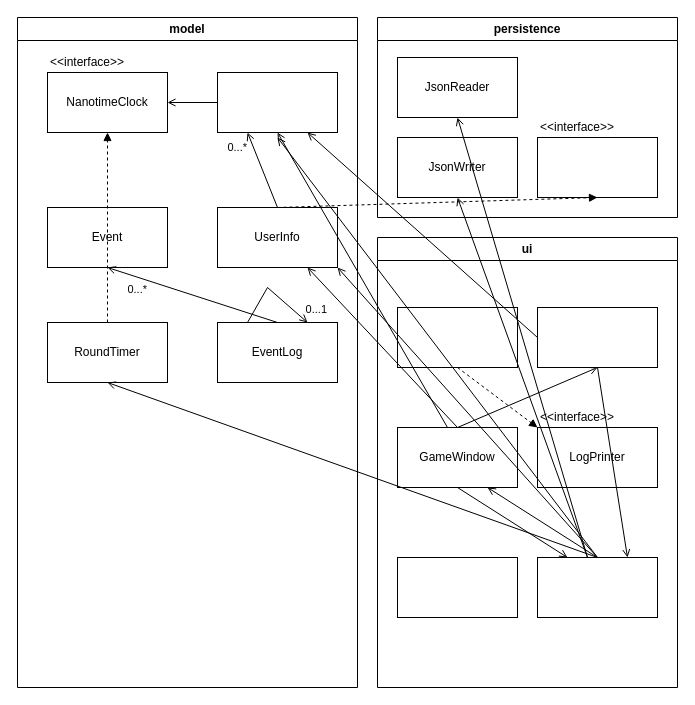
Some shapes in this 695 by 705 pixel diagram are drawn without their labels. Each missing label, with the centre of its shape:
ConsolePrinter: (x=457, y=337)
EndUI: (x=597, y=337)
Main: (x=457, y=587)
Round: (x=277, y=102)
TypingGame: (x=597, y=587)
Writable: (x=597, y=167)
